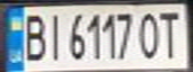1: (84, 9, 103, 61), (100, 9, 118, 61)
6: (63, 9, 84, 61)
7: (115, 9, 136, 61)
B: (18, 9, 48, 62)
I: (42, 9, 66, 62)
O: (136, 8, 163, 60)
T: (157, 7, 184, 60)
